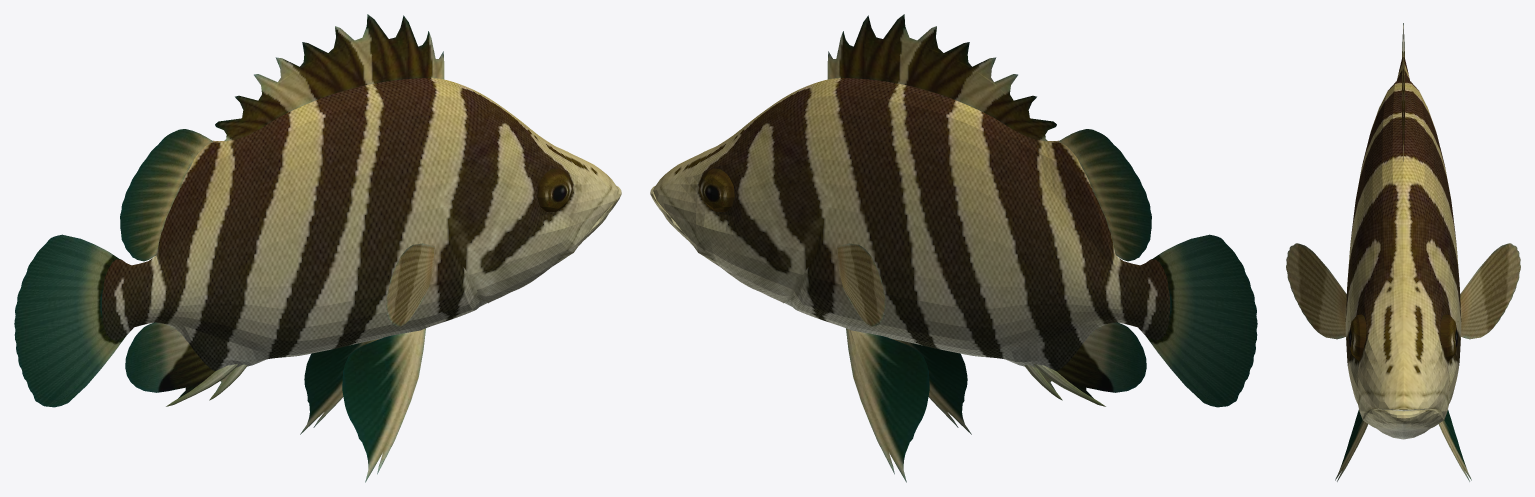
The model's file is tigerfish.glb.
3 views of the same model, side by side, from view 1: azimuth 30°, elevation 25°; view 2: azimuth 150°, elevation 25°; view 3: azimuth 270°, elevation 25° (orthographic). The views are drawn at different scales.
Visible parts, largest first — view 1: tigerfish; view 2: tigerfish; view 3: tigerfish.
Boxes of the visible parts, x1,y1,x2,y2 form: tigerfish: (14, 14, 621, 482); tigerfish: (650, 14, 1257, 482); tigerfish: (1286, 23, 1520, 481).
Size of the model in its own units: 1 by 0.6895 by 0.32.
Materials: 1 (1 with a texture image).
